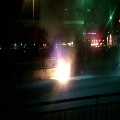fire: (55, 59, 70, 82)
